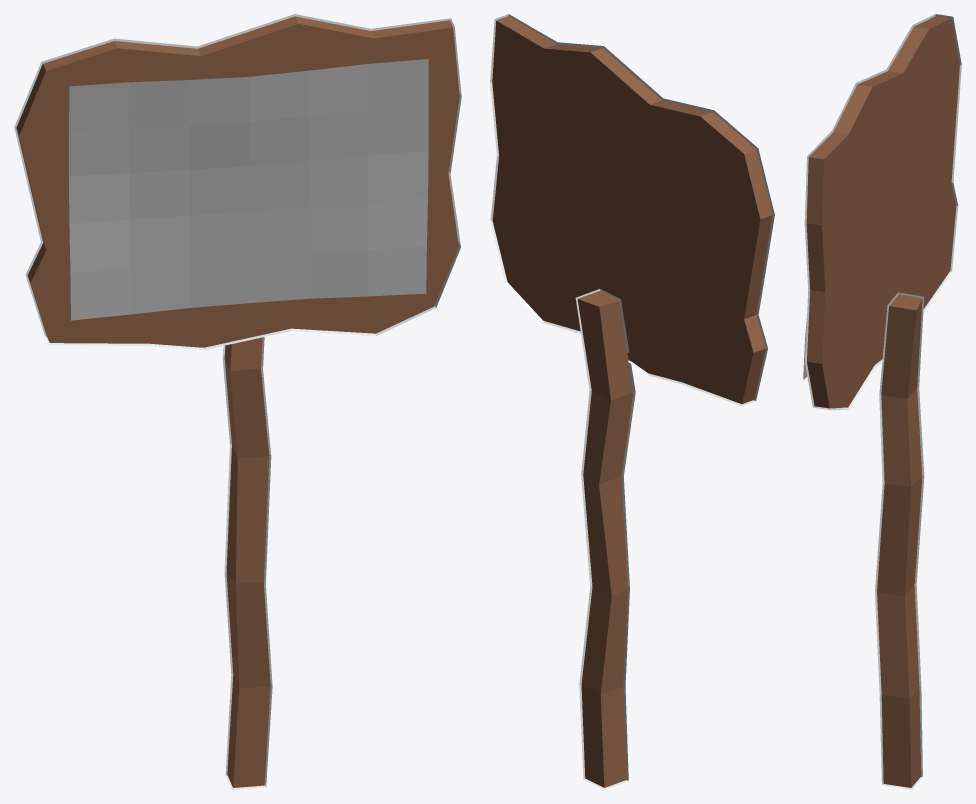
File: plate-small-tree.glb
The picture shows the model from 3 angles, left to right: view 1: azimuth 30°, elevation 25°; view 2: azimuth 150°, elevation 25°; view 3: azimuth 270°, elevation 25°; orthographic projection. The views are drawn at different scales.
Parts seen in each view (by area): view 1: video, plate; view 2: plate; view 3: plate.
Boxes of the visible parts, x1=… form: video: x1=69, y1=59, x2=428, y2=320; plate: x1=14, y1=14, x2=461, y2=789; plate: x1=490, y1=14, x2=774, y2=789; plate: x1=804, y1=14, x2=961, y2=789.
Bounding box in the file's own units: 2.63 × 5.17 × 1.05.
